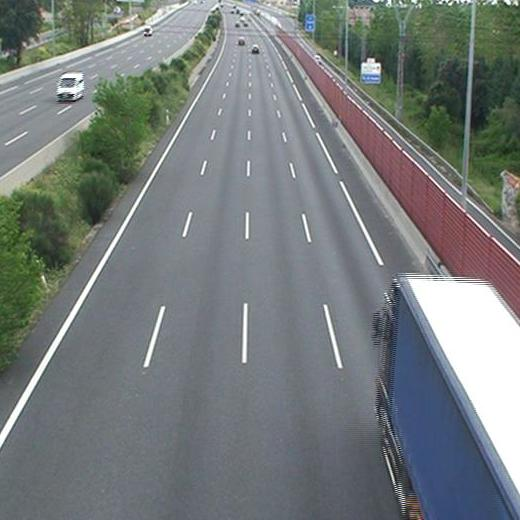truck: (376, 277, 520, 520)
